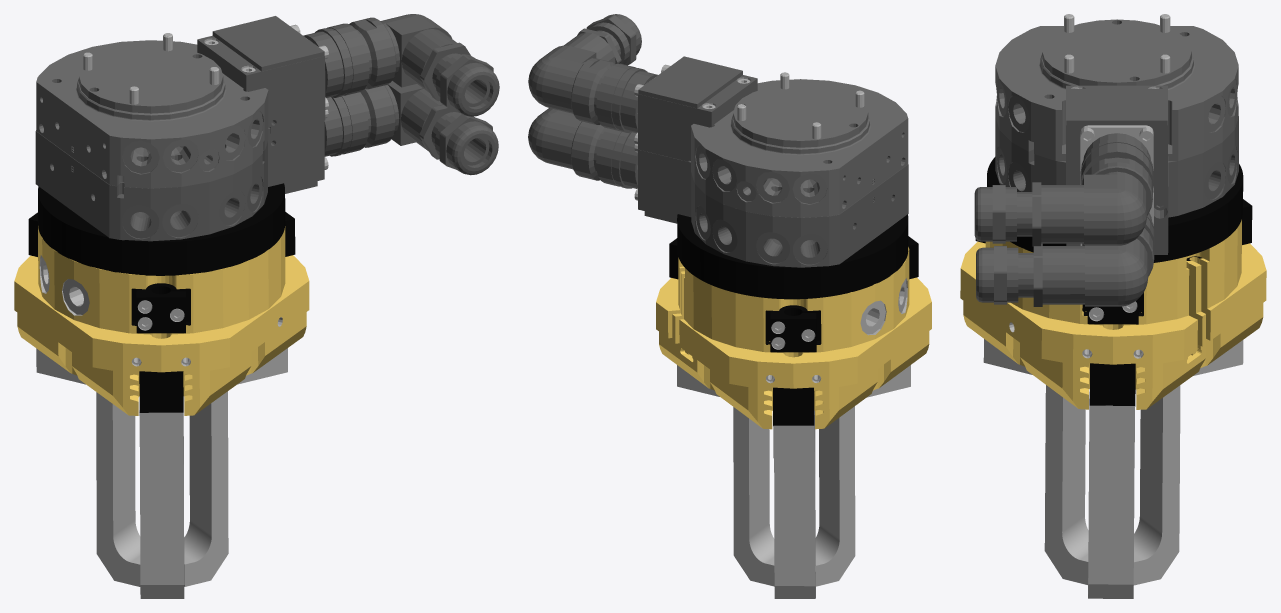
File: PZN-plus 100-1 (0303312).fbx
The picture shows the model from 3 angles, left to right: view 1: azimuth 30°, elevation 25°; view 2: azimuth 150°, elevation 25°; view 3: azimuth 270°, elevation 25°; orthographic projection. The views are drawn at different scales.
Parts seen in each view (by area): view 1: SCHUNK-0303312 PZN-plus 100-1, 00000, SCHUNK-0302326 SWK-021-000-000,000_000_000_000_000_0__0_0, SCHUNK-0302327 SWA-021-000-000,000_000_000_000_000_0__0_0, SCHUNK-0301294 KAS-19B-K-90, SCHUNK-0301295 KAS-19B-A-90, SCHUNK-9937328 SWO-K19-K, SCHUNK-9937329 SWO-K19-A; view 2: SCHUNK-0303312 PZN-plus 100-1, 00000, SCHUNK-0302326 SWK-021-000-000,000_000_000_000_000_0__0_0, SCHUNK-0302327 SWA-021-000-000,000_000_000_000_000_0__0_0, SCHUNK-0301294 KAS-19B-K-90, SCHUNK-9937328 SWO-K19-K, SCHUNK-0301295 KAS-19B-A-90, SCHUNK-9937329 SWO-K19-A; view 3: SCHUNK-0303312 PZN-plus 100-1, 00000, SCHUNK-0302326 SWK-021-000-000,000_000_000_000_000_0__0_0, SCHUNK-0301294 KAS-19B-K-90, SCHUNK-0301295 KAS-19B-A-90, SCHUNK-9937328 SWO-K19-K, SCHUNK-0302327 SWA-021-000-000,000_000_000_000_000_0__0_0, SCHUNK-9937329 SWO-K19-A.
Boxes of the visible parts, x1=… form: SCHUNK-0303312 PZN-plus 100-1, 00000: x1=14, y1=183, x2=309, y2=598; SCHUNK-0302326 SWK-021-000-000,000_000_000_000_000_0__0_0: x1=36, y1=33, x2=268, y2=188; SCHUNK-0302327 SWA-021-000-000,000_000_000_000_000_0__0_0: x1=35, y1=130, x2=267, y2=241; SCHUNK-0301294 KAS-19B-K-90: x1=303, y1=14, x2=499, y2=116; SCHUNK-0301295 KAS-19B-A-90: x1=324, y1=81, x2=498, y2=175; SCHUNK-9937328 SWO-K19-K: x1=197, y1=16, x2=328, y2=133; SCHUNK-9937329 SWO-K19-A: x1=268, y1=109, x2=328, y2=193; SCHUNK-0303312 PZN-plus 100-1, 00000: x1=656, y1=214, x2=931, y2=598; SCHUNK-0302326 SWK-021-000-000,000_000_000_000_000_0__0_0: x1=691, y1=72, x2=908, y2=217; SCHUNK-0302327 SWA-021-000-000,000_000_000_000_000_0__0_0: x1=691, y1=164, x2=908, y2=267; SCHUNK-0301294 KAS-19B-K-90: x1=528, y1=14, x2=657, y2=133; SCHUNK-9937328 SWO-K19-K: x1=634, y1=56, x2=757, y2=161; SCHUNK-0301295 KAS-19B-A-90: x1=528, y1=108, x2=637, y2=188; SCHUNK-9937329 SWO-K19-A: x1=634, y1=144, x2=691, y2=223; SCHUNK-0303312 PZN-plus 100-1, 00000: x1=960, y1=157, x2=1266, y2=598; SCHUNK-0302326 SWK-021-000-000,000_000_000_000_000_0__0_0: x1=995, y1=14, x2=1238, y2=160; SCHUNK-0301294 KAS-19B-K-90: x1=974, y1=133, x2=1153, y2=246; SCHUNK-0301295 KAS-19B-A-90: x1=976, y1=212, x2=1154, y2=306; SCHUNK-9937328 SWO-K19-K: x1=1066, y1=85, x2=1167, y2=191; SCHUNK-0302327 SWA-021-000-000,000_000_000_000_000_0__0_0: x1=995, y1=116, x2=1238, y2=217; SCHUNK-9937329 SWO-K19-A: x1=1066, y1=156, x2=1168, y2=254.
Bounding box in the file's own units: 18069 × 23248 × 11945.
